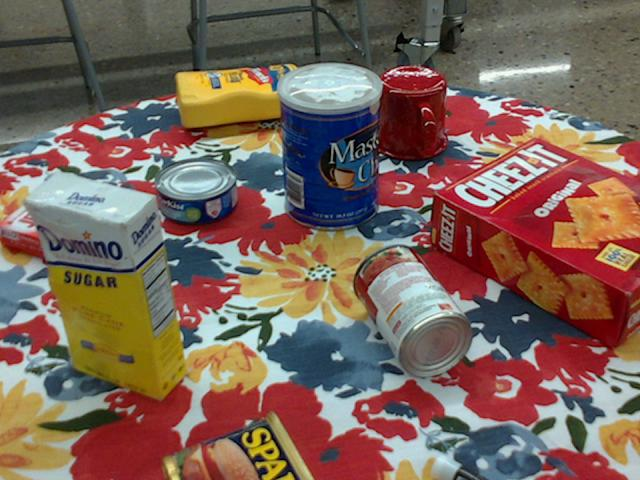cracker_box: (430, 138, 639, 349)
gelatin_box: (0, 186, 113, 266)
large_marker: (432, 453, 491, 479)
master_chef_can: (278, 63, 382, 231)
mug: (370, 67, 447, 161)
mustard_bottle: (173, 65, 331, 127)
potted_meat_can: (161, 411, 315, 479)
sugar_box: (22, 169, 187, 400)
tomato_soup_can: (352, 244, 475, 377)
tuna_fish_can: (152, 158, 236, 225)
